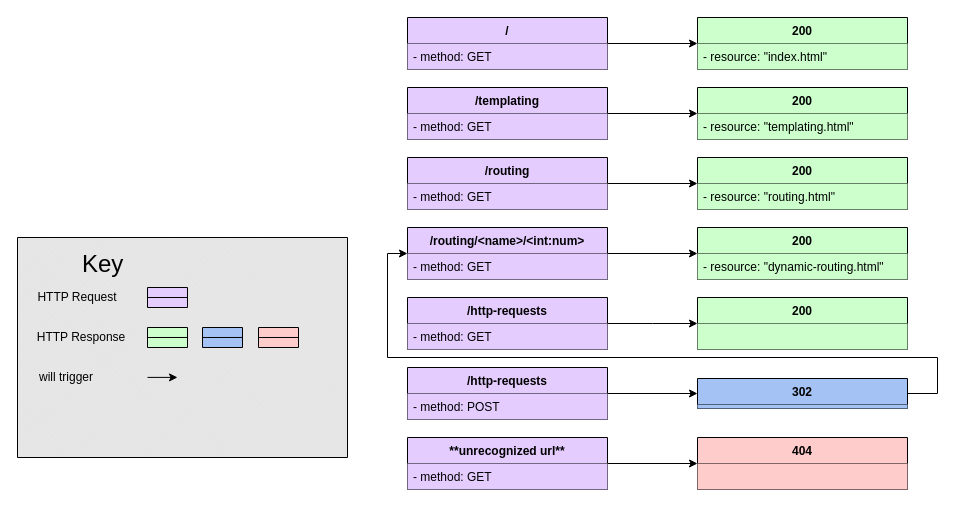
This 963x510 diagram has some shape labels left out. Each missing label, with the centre of its shape:
- resource: "error_404.html": point 802,476
- resource: "request.html": point 802,336
